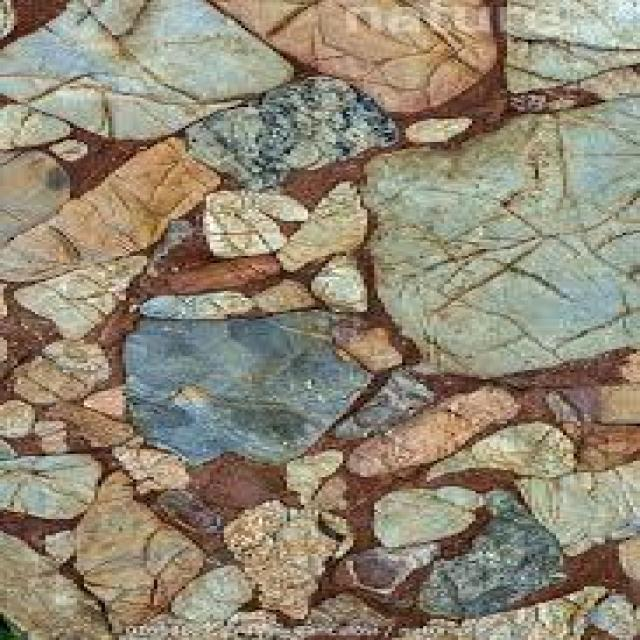Metamorphic: (4, 39, 622, 630)
